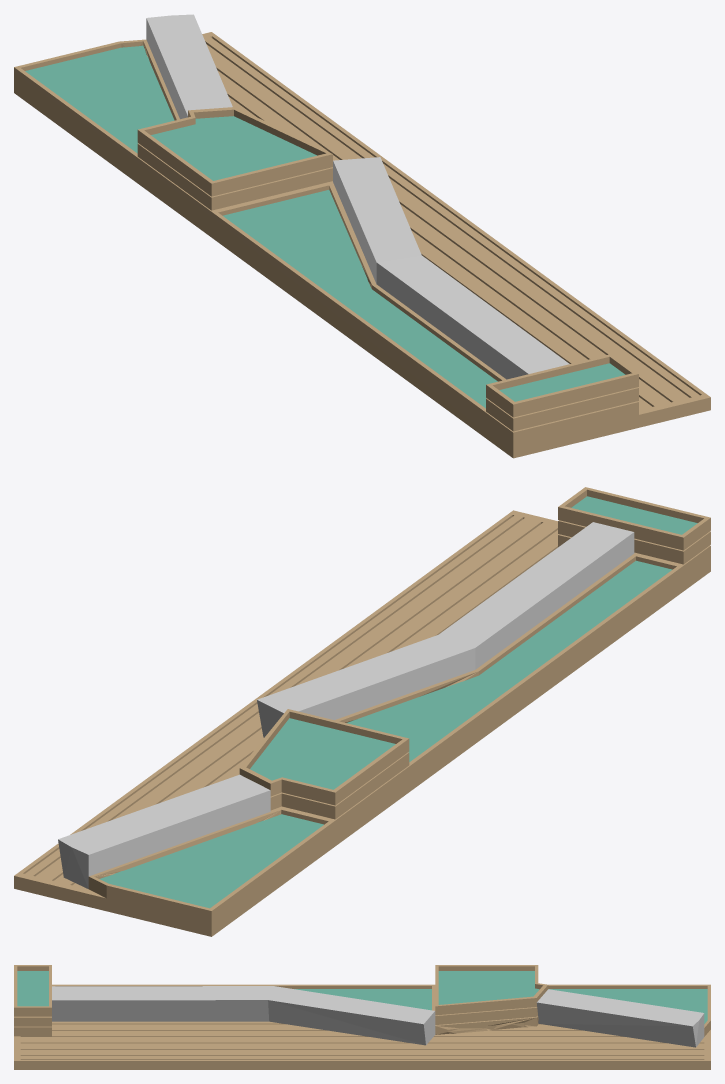
File: large-parklet-seating.glb
3 renders of one model, top to bottom at view 1: azimuth 30°, elevation 25°; view 2: azimuth 150°, elevation 25°; view 3: azimuth 270°, elevation 25°, orthographic. The views are drawn at different scales.
Visible parts, largest first — view 1: large-parklet-seating; view 2: large-parklet-seating; view 3: large-parklet-seating.
Boxes of the visible parts, box(x1,y1,x2,y2) form: large-parklet-seating: box(14, 14, 710, 458); large-parklet-seating: box(14, 487, 710, 936); large-parklet-seating: box(14, 965, 710, 1069).
Bounding box in the file's own units: 2.43 × 0.6337 × 10.65.
1 material, 1 textured.
